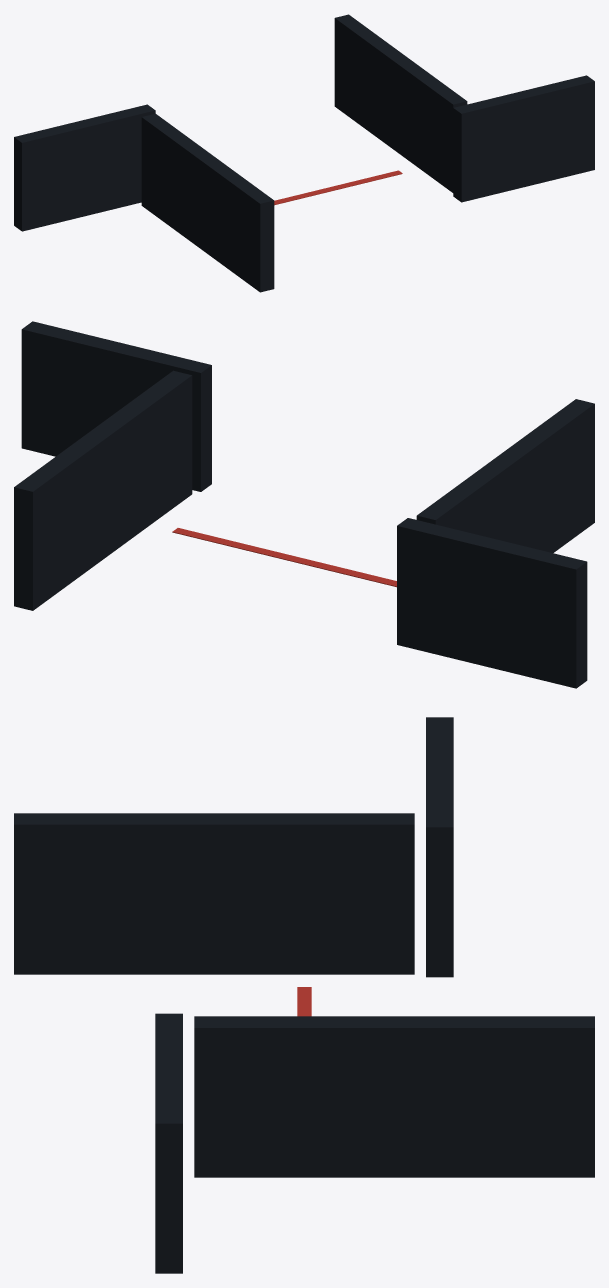
The model's file is module.hallway_crosscheck_subrooms.glb.
The picture shows the model from 3 angles, top to bottom: view 1: azimuth 30°, elevation 25°; view 2: azimuth 150°, elevation 25°; view 3: azimuth 270°, elevation 25°; orthographic projection. The views are drawn at different scales.
Parts seen in each view (by area): view 1: right_back_wall, left_room_partition, left_back_wall, right_room_partition, cross_paint; view 2: left_back_wall, right_room_partition, right_back_wall, left_room_partition, cross_paint; view 3: left_room_partition, right_room_partition, left_back_wall, right_back_wall.
Boxes of the visible parts, box(x1,y1,x2,y2) form: right_back_wall: box(453, 75, 594, 202); left_room_partition: box(141, 113, 274, 292); left_back_wall: box(14, 104, 155, 231); right_room_partition: box(334, 14, 467, 192); cross_paint: box(274, 170, 402, 205); left_back_wall: box(397, 518, 587, 688); right_room_partition: box(14, 370, 192, 610); right_back_wall: box(21, 321, 211, 491); left_room_partition: box(416, 399, 594, 552); cross_paint: box(172, 528, 396, 587); left_room_partition: box(14, 813, 414, 974); right_room_partition: box(194, 1016, 594, 1177); left_back_wall: box(426, 717, 453, 977); right_back_wall: box(155, 1013, 182, 1273).
Bounding box in the file's own units: 19.2 × 3.3 × 11.6.
